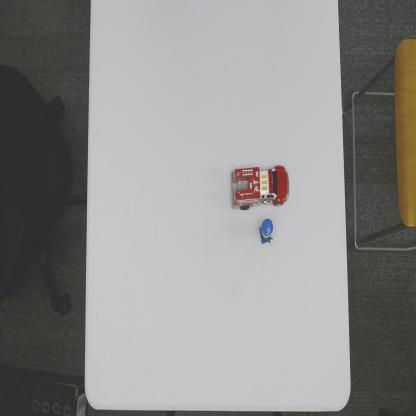Firetruck: (231, 165, 290, 211)
